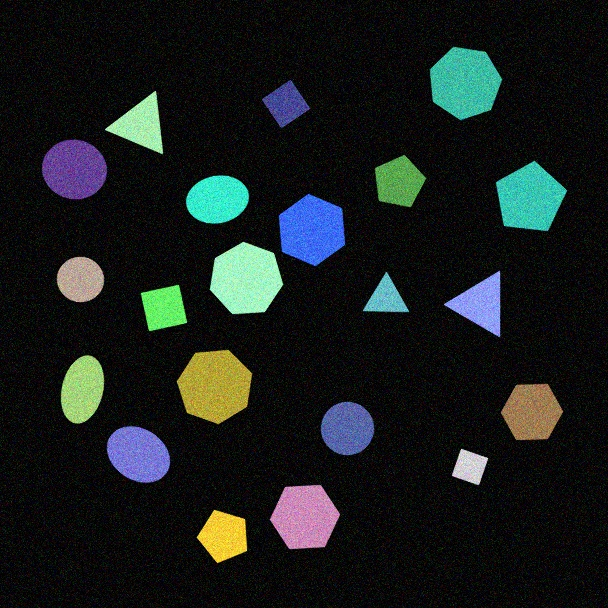Circulo: (41, 139, 108, 200), (320, 401, 375, 456), (56, 256, 105, 303)
Elipse: (106, 426, 171, 483), (185, 175, 250, 224), (60, 355, 105, 424)
Heptagono: (176, 349, 253, 425), (209, 241, 284, 315), (429, 46, 503, 121)
Hexagono: (278, 193, 346, 267), (269, 484, 341, 550), (500, 383, 564, 441)
Pentagono: (495, 160, 568, 232), (374, 154, 427, 208), (196, 509, 248, 564)
Quadrado: (261, 79, 311, 129), (140, 284, 188, 332), (451, 448, 489, 486)
Triangulo: (444, 270, 501, 338), (105, 90, 164, 155), (362, 272, 410, 313)
